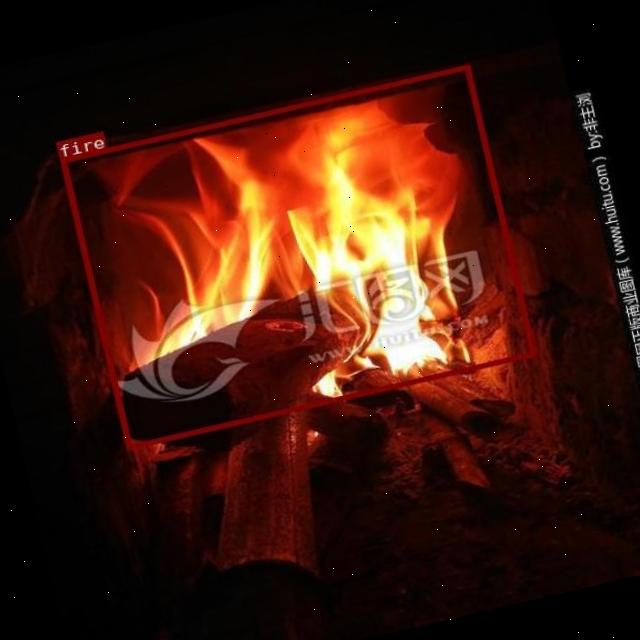fire: (59, 64, 535, 450)
